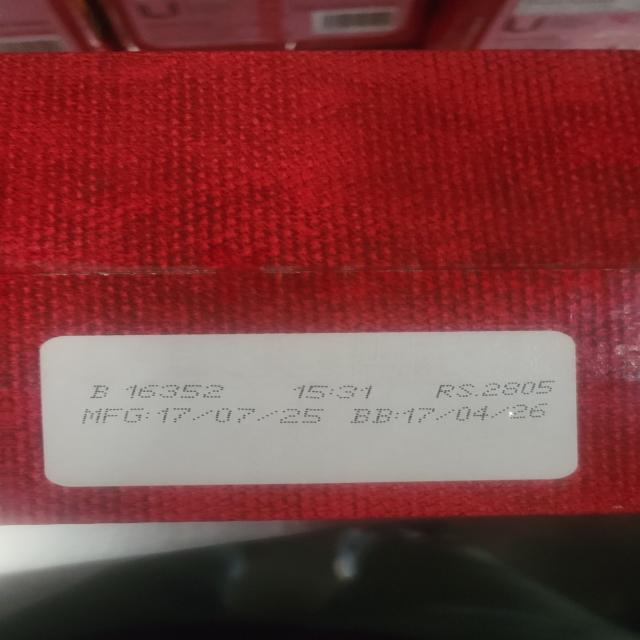BB: (350, 406, 557, 424)
Batch: (86, 382, 240, 404)
MFG: (73, 407, 330, 429)
RS: (433, 378, 571, 401)
TimeStamp: (280, 379, 388, 402)
